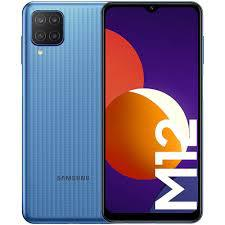Smartphone: (102, 1, 198, 225), (23, 0, 100, 225)
